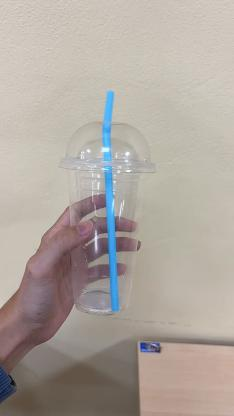Plastic Cup: (63, 120, 158, 314)
